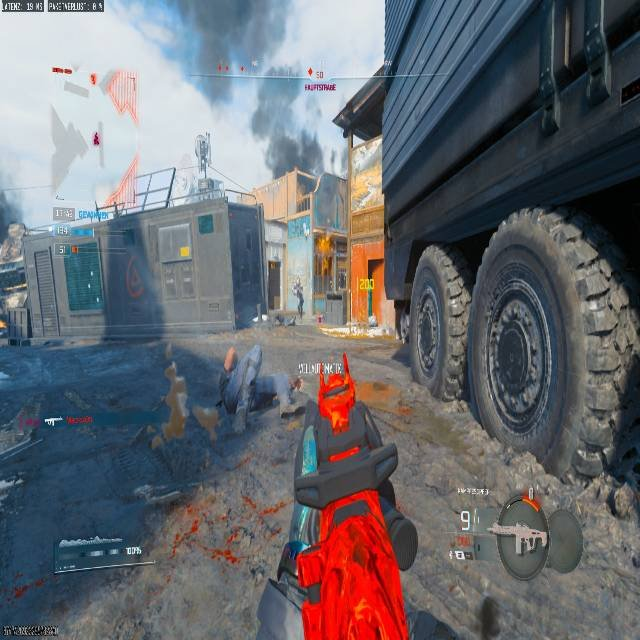player: (291, 280, 304, 315)
